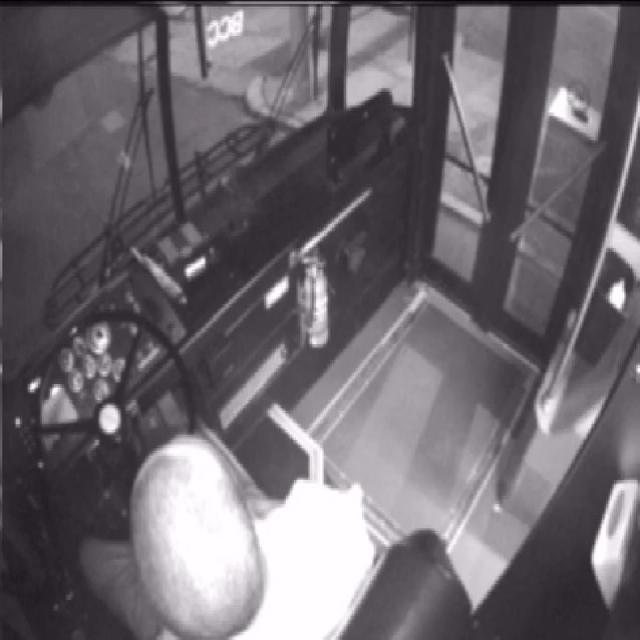bus-door: (422, 1, 633, 373)
